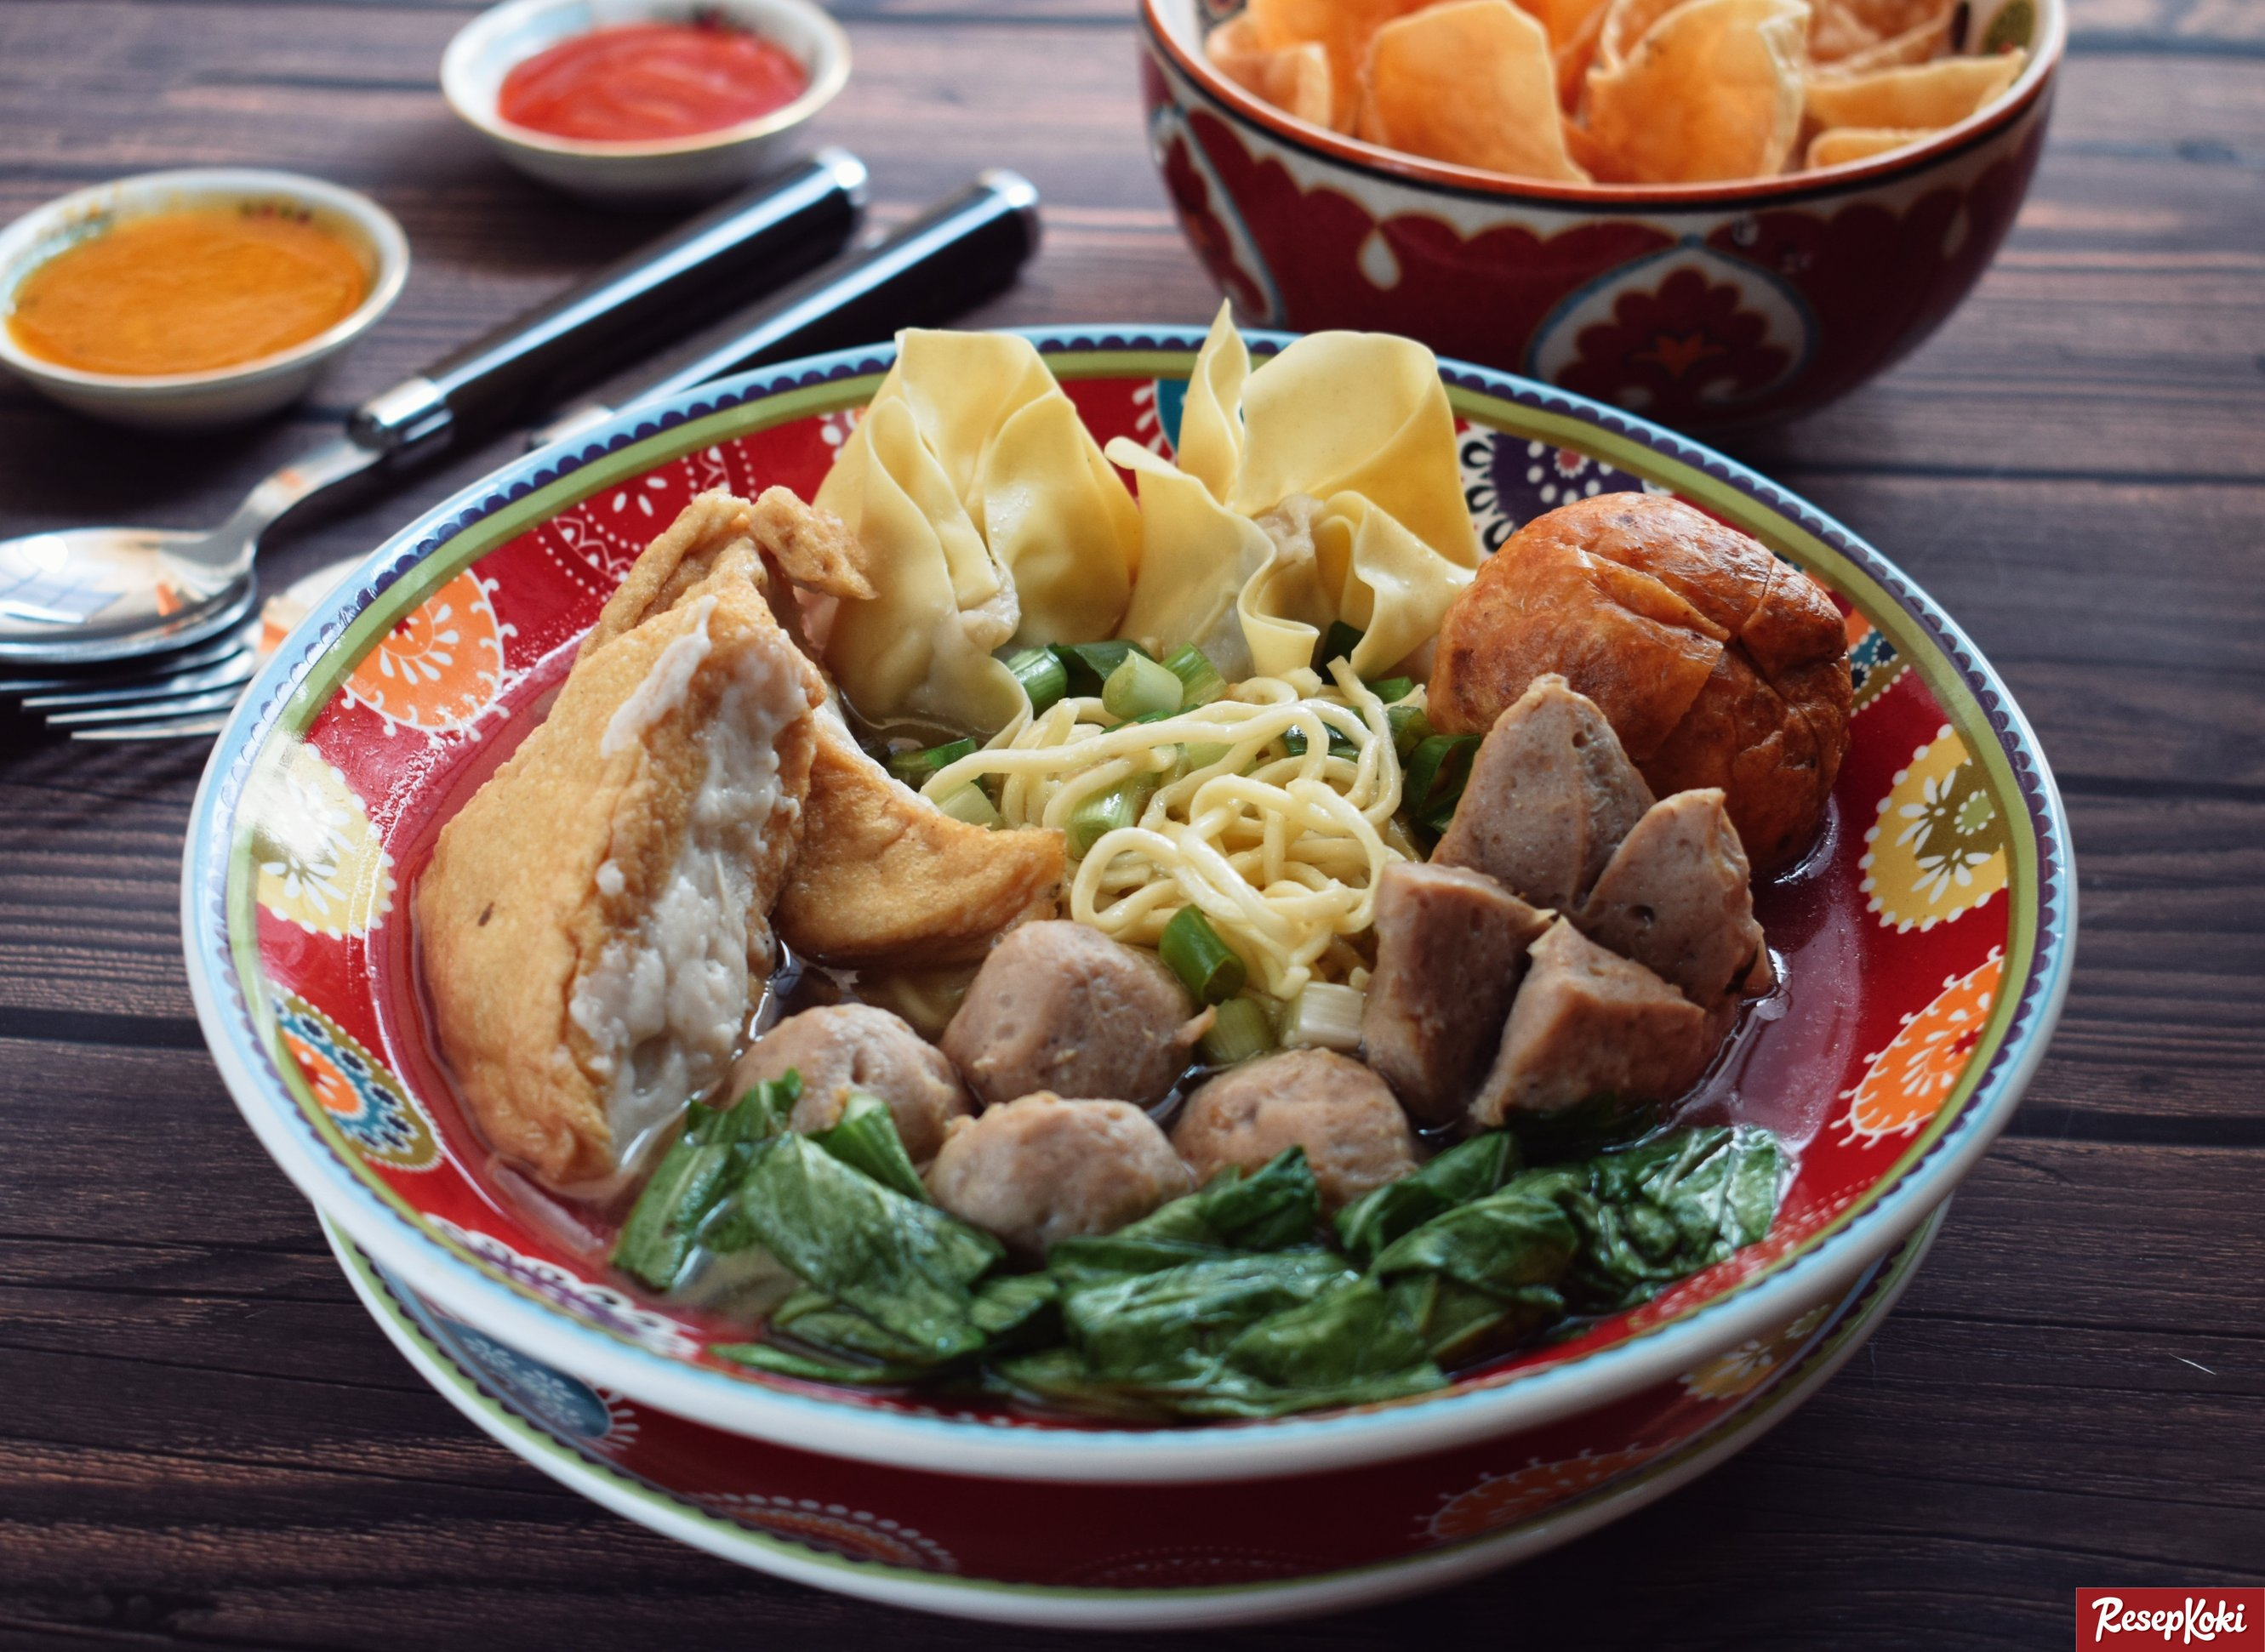bakso: (253, 397, 2121, 1439)
